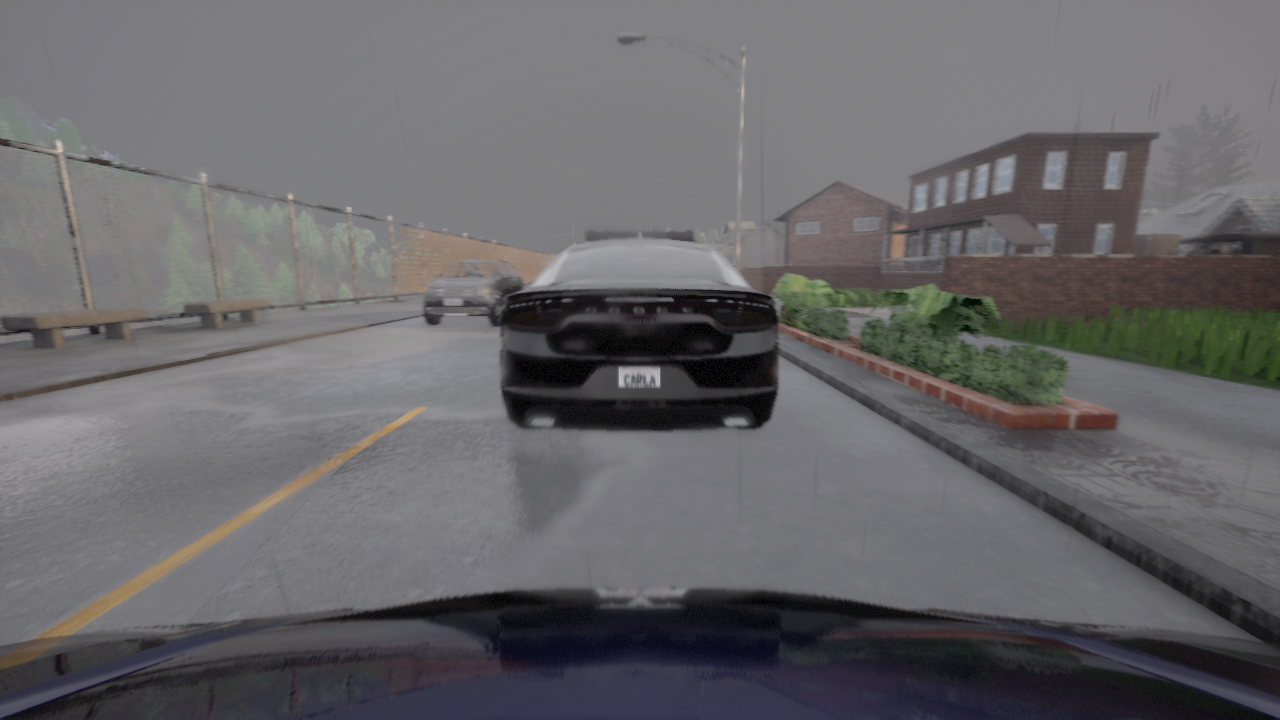cyclist: (0, 588, 1279, 719), (500, 229, 777, 430), (422, 259, 524, 325), (1163, 232, 1279, 255)
